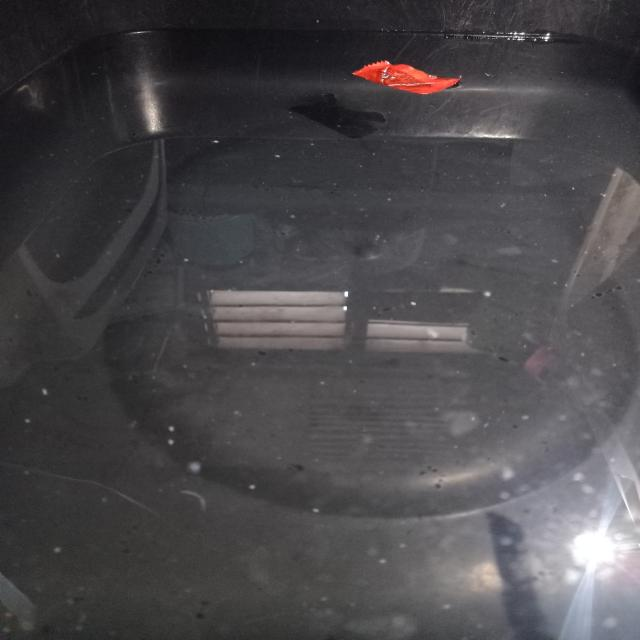Plastic Wrapper: (353, 60, 458, 94)
